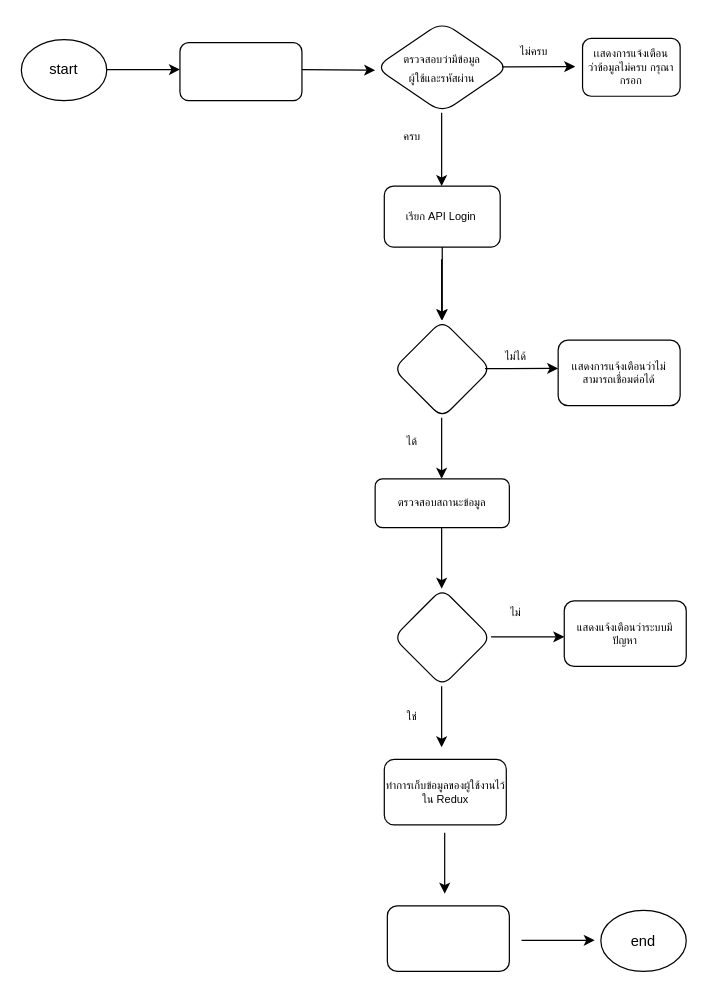
The diagram is 708 pixels wide and 993 high, and some of its shapes have lost their labels. The centre of each missing label's shape, as x and y in pixels:
"ระบุข้อมูลผู้ใช้เเละรหัสผ่าน" goes at point 240,71.
"สถานะ S" goes at point 441,636.
"เชื่อมต่อได้" goes at point 441,368.
"เปลี่ยนหน้าแสดงผลไปยัง Manage Question" goes at point 447,938.
